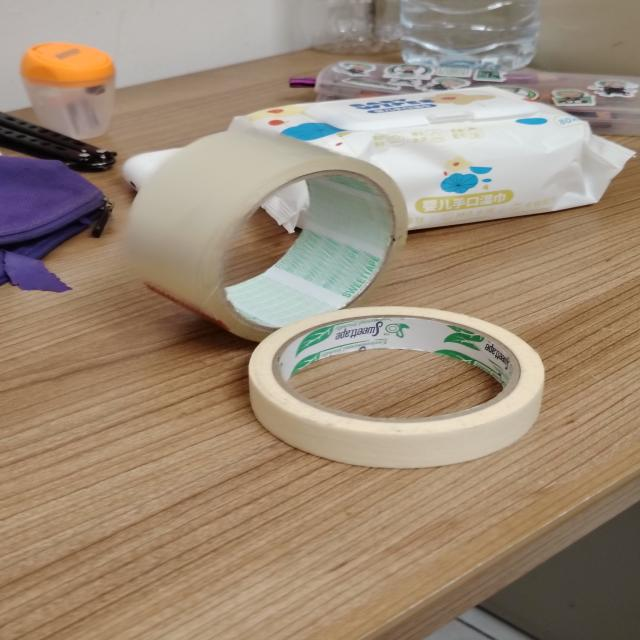sharpener: (21, 42, 115, 139)
tape: (127, 131, 408, 341), (249, 307, 544, 468)
